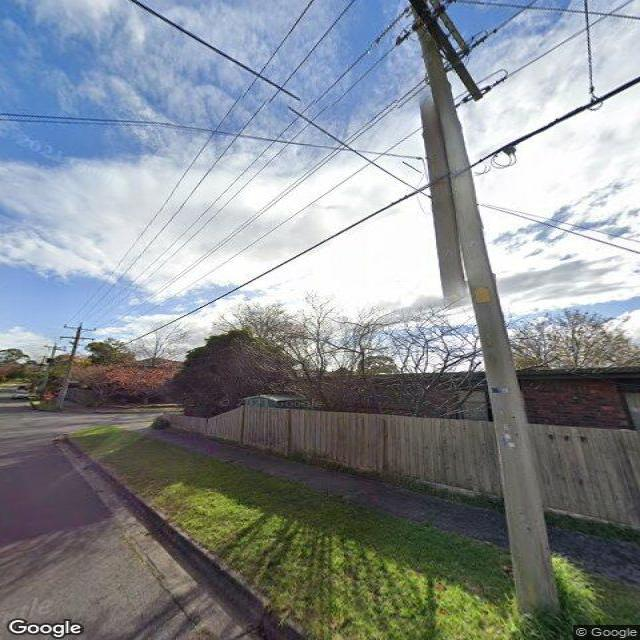crossarm: (408, 0, 489, 100), (64, 323, 97, 331), (43, 344, 66, 352), (59, 336, 95, 341)
timber-pole: (412, 18, 563, 616), (56, 321, 83, 408), (38, 342, 58, 396)
